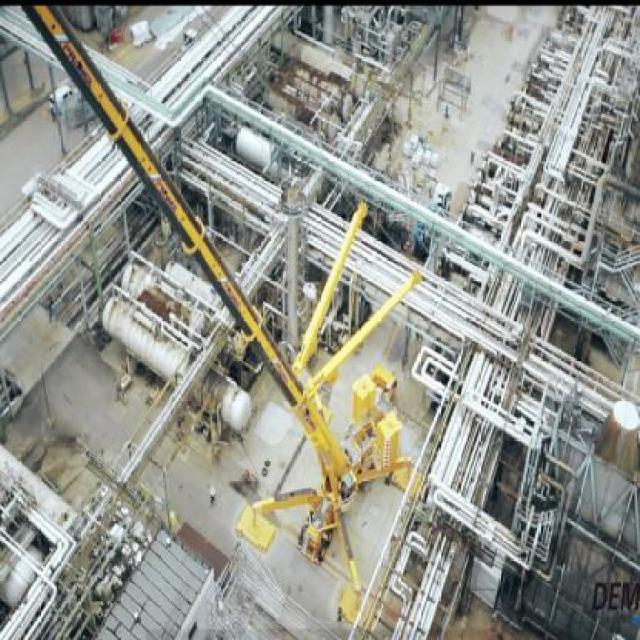Mobile Crane: (6, 12, 422, 619)
